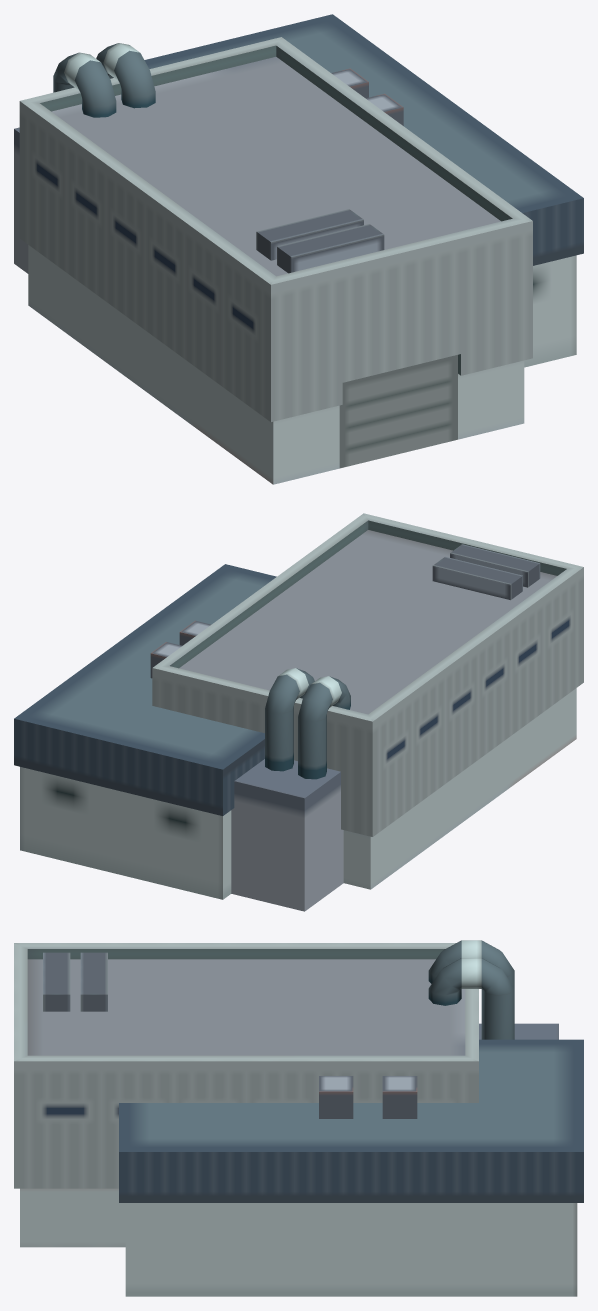
The model's file is Universal_Building_Factory_L3_01_Mod.fbx.
3 views of the same model, one above another, from view 1: azimuth 30°, elevation 25°; view 2: azimuth 150°, elevation 25°; view 3: azimuth 270°, elevation 25° (orthographic). The views are drawn at different scales.
Parts seen in each view (by area): view 1: Universal_Building_Factory_L3_01_Mod; view 2: Universal_Building_Factory_L3_01_Mod; view 3: Universal_Building_Factory_L3_01_Mod.
Part boxes in pixels (bbox=[...]): Universal_Building_Factory_L3_01_Mod: bbox=[14, 14, 583, 484]; Universal_Building_Factory_L3_01_Mod: bbox=[14, 513, 583, 911]; Universal_Building_Factory_L3_01_Mod: bbox=[14, 940, 583, 1296].
Size of the model in its own units: 1143 by 697 by 1648.
